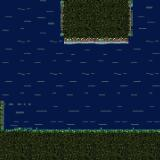Interaction: (0, 123, 160, 142), (0, 96, 13, 134)
Slow: (0, 0, 60, 127), (60, 48, 133, 130), (134, 0, 160, 128)
